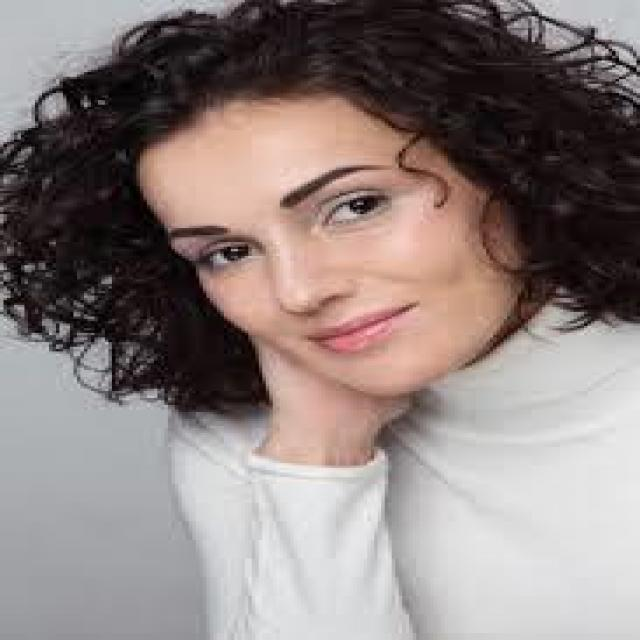person: (24, 9, 616, 638)
